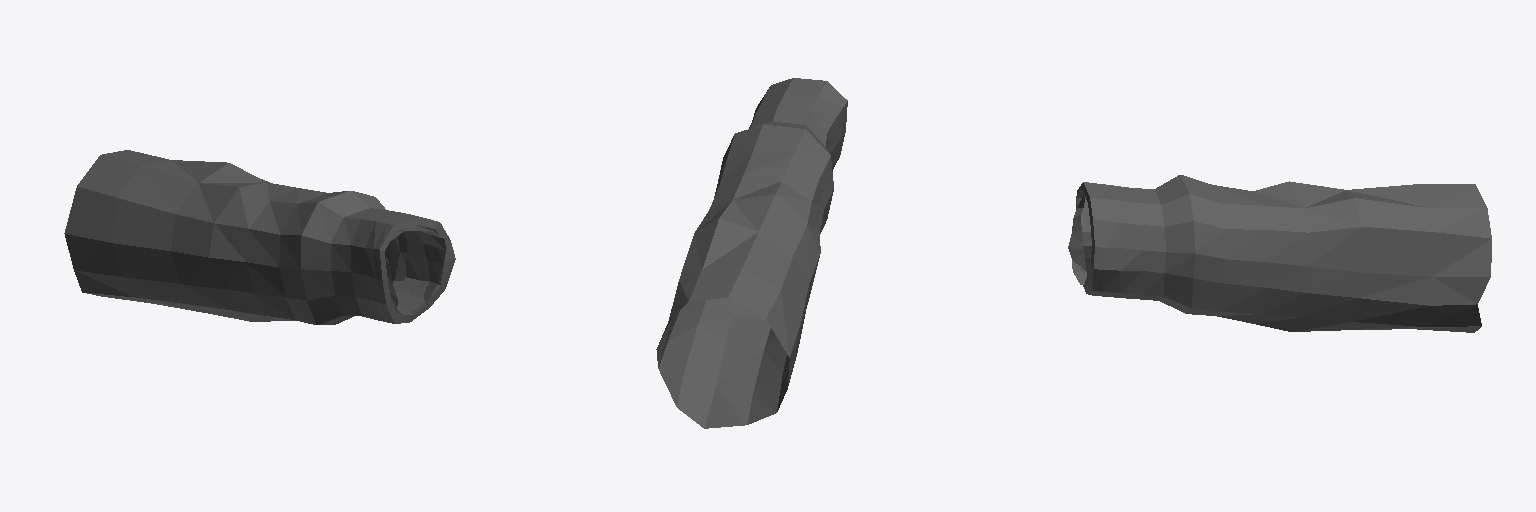
File: l_forearm.obj
3 renders of one model, left to right at view 1: azimuth 30°, elevation 25°; view 2: azimuth 150°, elevation 25°; view 3: azimuth 270°, elevation 25°, orthographic.
Parts seen in each view (by area): view 1: zoey_color_bmp_005_zoey_color_bmp.005; view 2: zoey_color_bmp_005_zoey_color_bmp.005; view 3: zoey_color_bmp_005_zoey_color_bmp.005.
Boxes of the visible parts, x1=… form: zoey_color_bmp_005_zoey_color_bmp.005: x1=64, y1=150, x2=455, y2=324; zoey_color_bmp_005_zoey_color_bmp.005: x1=656, y1=78, x2=847, y2=428; zoey_color_bmp_005_zoey_color_bmp.005: x1=1068, y1=175, x2=1491, y2=332.
Bounding box in the file's own units: 5.98 × 5 × 10.28.